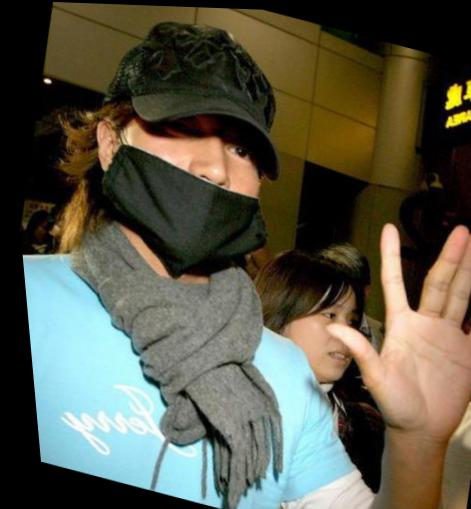NONE: (275, 282, 365, 386)
WRONG: (95, 79, 283, 280)
